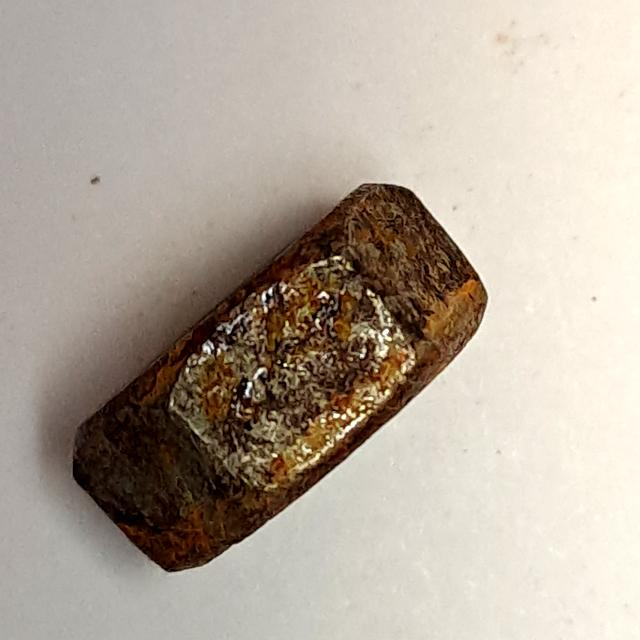Side_Rust: (57, 164, 505, 592)
